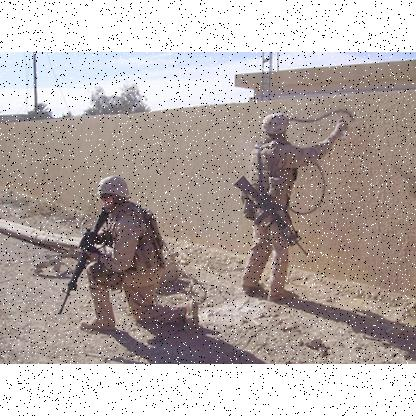gun: (232, 172, 309, 256), (55, 214, 116, 312)
